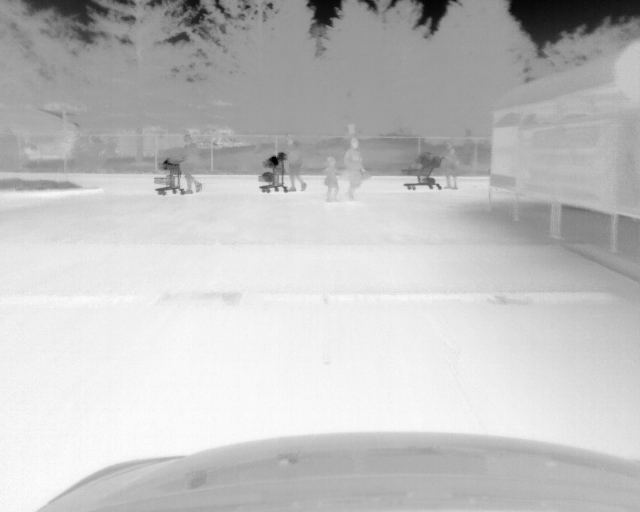people: (342, 138, 368, 201), (177, 134, 204, 194), (285, 133, 306, 192), (441, 140, 461, 190), (322, 154, 342, 201)
